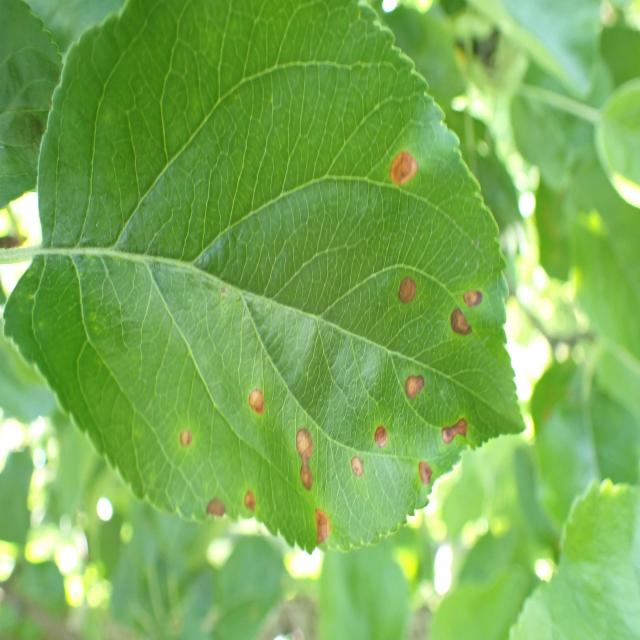Black Rot: (171, 478, 248, 548), (383, 114, 419, 220), (389, 262, 427, 358), (426, 407, 488, 462), (159, 414, 207, 476), (237, 351, 267, 442), (448, 265, 481, 346), (293, 499, 342, 551), (388, 366, 444, 411), (339, 446, 375, 515), (293, 411, 320, 502), (400, 449, 437, 508), (361, 405, 394, 466), (237, 471, 267, 530)
